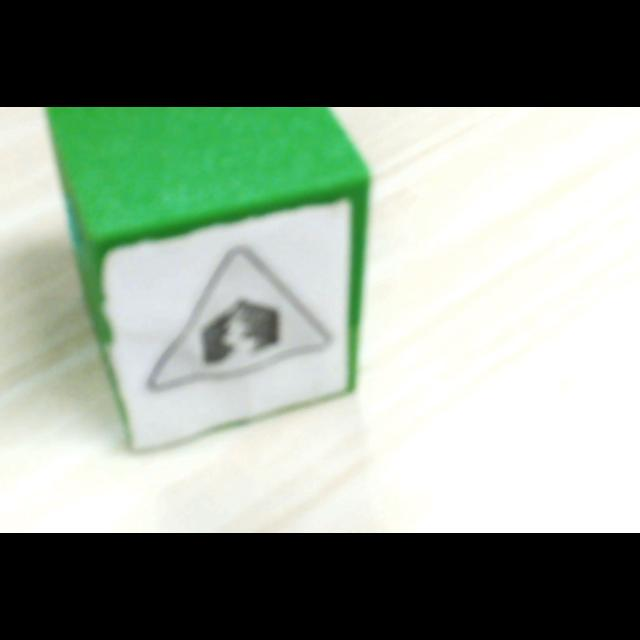Earthquake: (148, 248, 331, 390)
